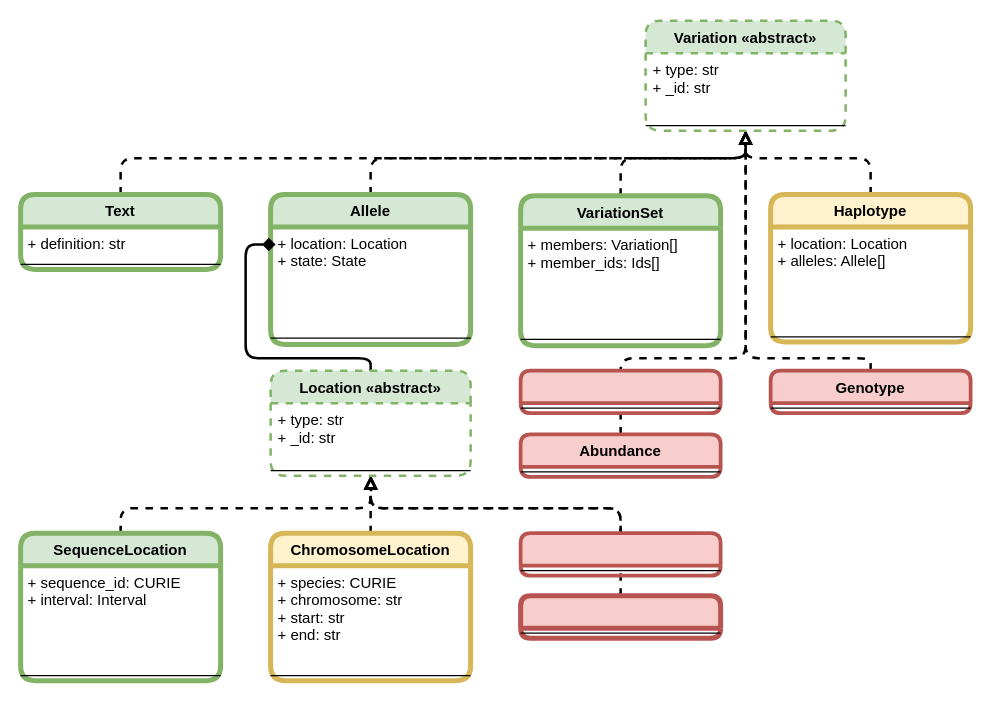
Image size: 991x701. Some labels were removed from this diagram. Each missing label, with the centre of its shape:
"GeneLocation" belongs at pixel 620 554.
"TranscriptLocation" belongs at pixel 620 616.
"Translocation" belongs at pixel 620 391.
